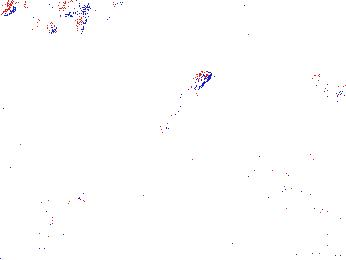X-ray fish: (44, 1, 88, 19)
glassfish: (159, 68, 212, 144)
red belly glassfish: (313, 73, 346, 98)
redtail glassfish: (2, 1, 60, 34), (75, 1, 124, 36), (125, 1, 171, 25)
